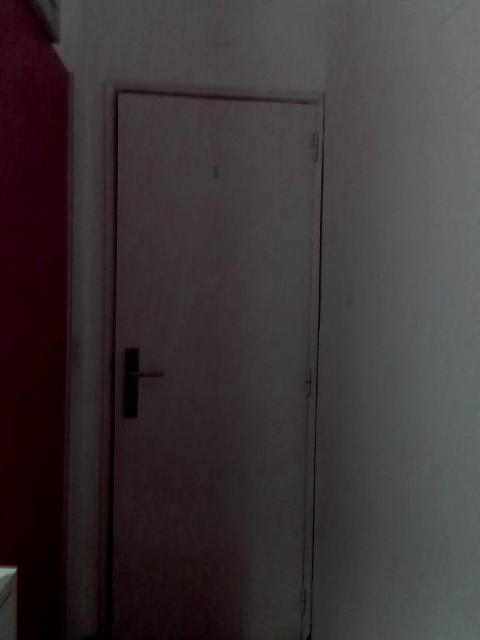closed_door: (99, 82, 326, 639)
